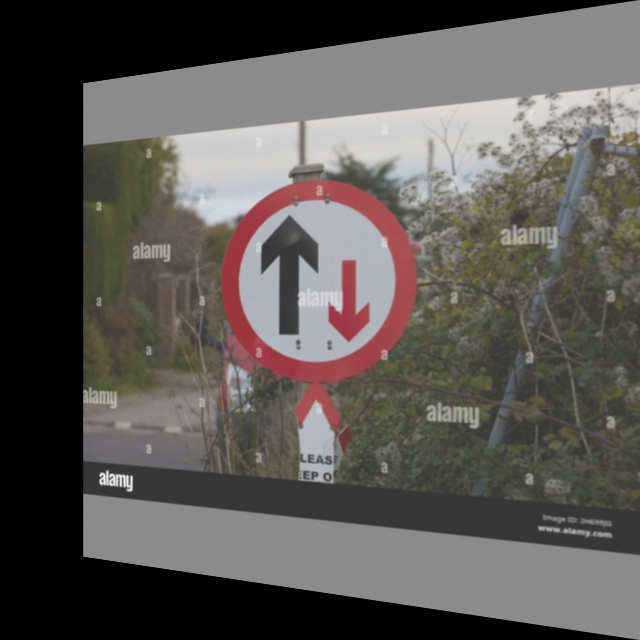Priority_for_Oncoming_Traffic: (221, 171, 417, 386)
